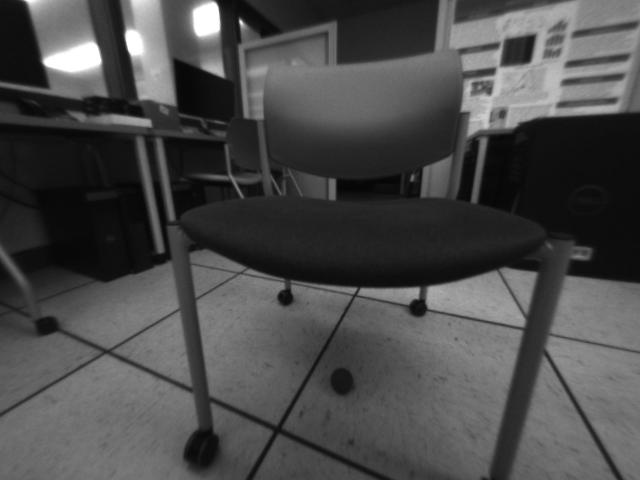dogtoy: (326, 360, 362, 399)
